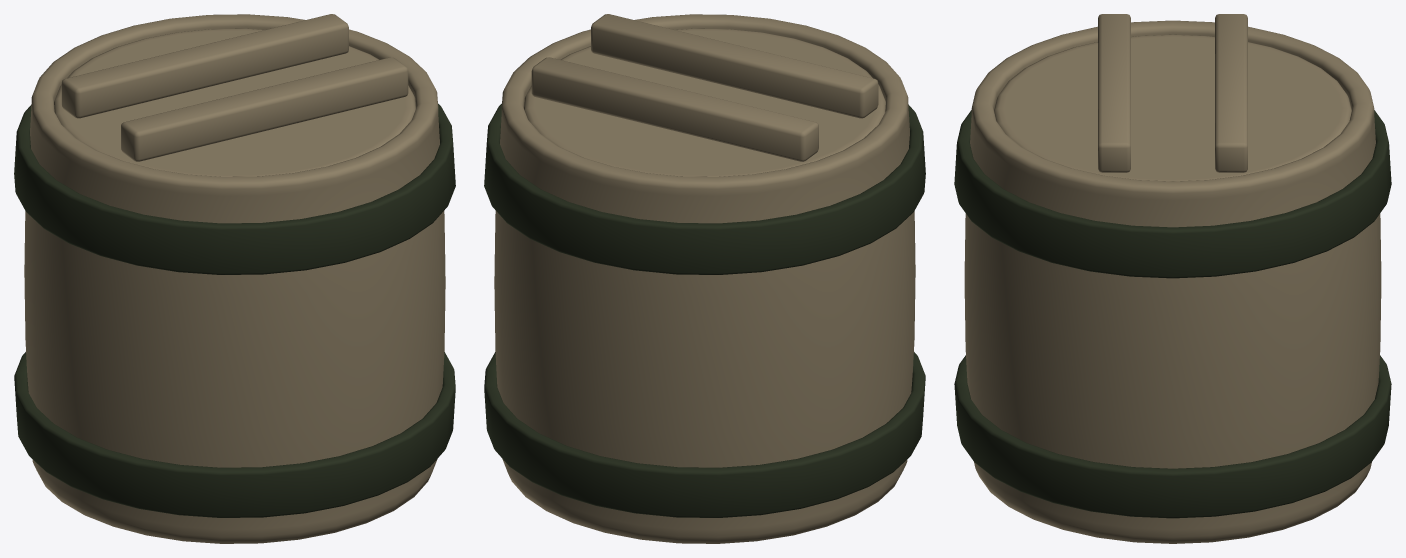
File: Barrel_v01.glb
The picture shows the model from 3 angles, left to right: view 1: azimuth 30°, elevation 25°; view 2: azimuth 150°, elevation 25°; view 3: azimuth 270°, elevation 25°; orthographic projection.
Parts seen in each view (by area): view 1: SM_Barrel; view 2: SM_Barrel; view 3: SM_Barrel.
Boxes of the visible parts, bbox=[...] form: SM_Barrel: bbox=[14, 14, 455, 543]; SM_Barrel: bbox=[484, 14, 925, 543]; SM_Barrel: bbox=[954, 14, 1391, 543].
Bounding box in the file's own units: 1.01 × 0.9782 × 1.01.
